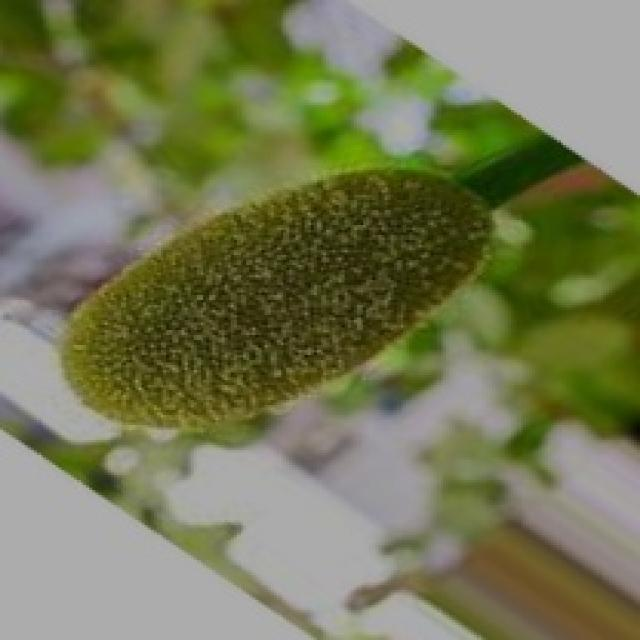Fruit: (40, 160, 440, 455)
